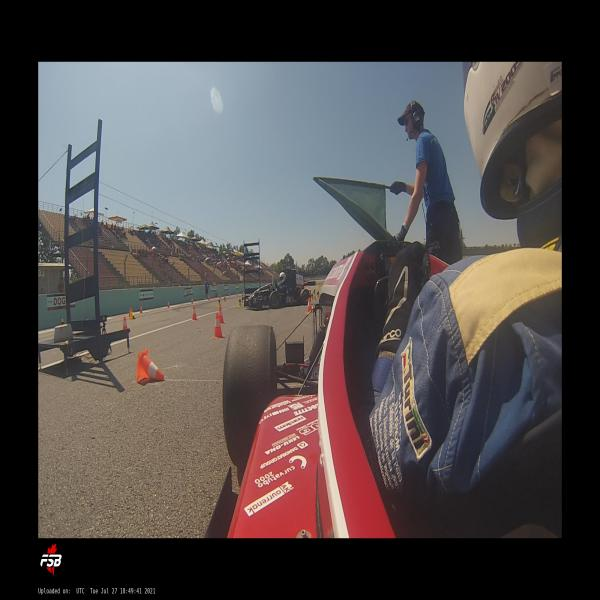orange_cone: (136, 351, 164, 382), (212, 314, 225, 339), (219, 306, 225, 324), (306, 298, 312, 313), (192, 306, 198, 320), (122, 317, 128, 329), (129, 307, 132, 317), (140, 305, 142, 314), (191, 298, 193, 304), (168, 301, 169, 307)
yellow_cone: (130, 312, 136, 319), (238, 298, 242, 308), (316, 292, 319, 298), (218, 299, 220, 305), (224, 296, 226, 302)
